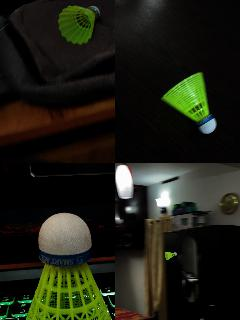shuttlecock: (18, 210, 114, 319), (160, 72, 216, 134), (57, 5, 100, 47), (164, 252, 176, 260)
